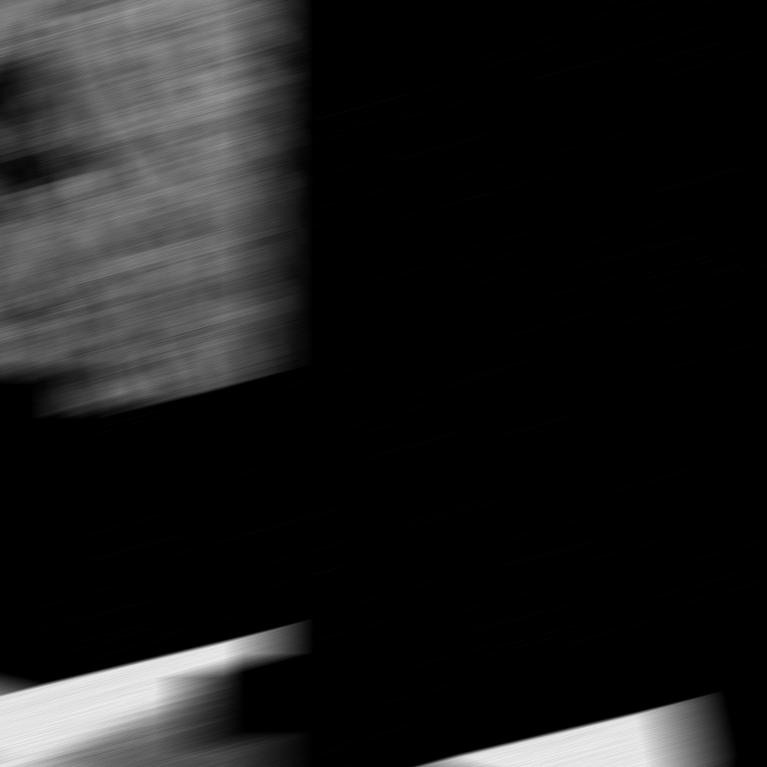AirbagV2: (0, 3, 279, 403), (0, 612, 279, 764)
